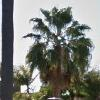Palm tree: (23, 5, 94, 100)
